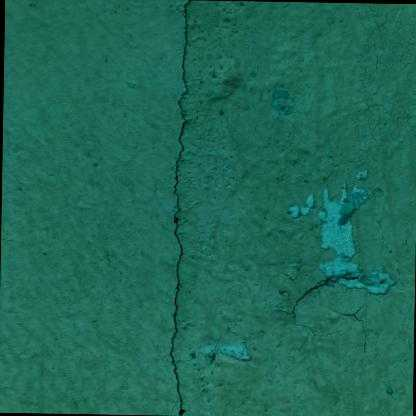crack: (168, 0, 189, 416)
